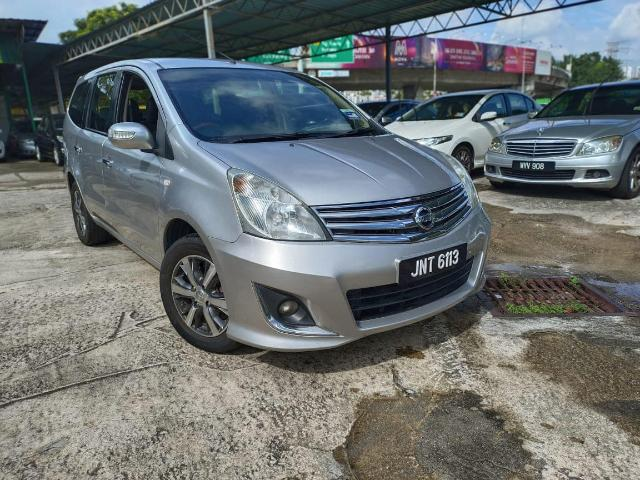License_Plate: (404, 242, 464, 286), (512, 157, 556, 176)
car: (61, 49, 494, 350), (492, 69, 640, 205)
